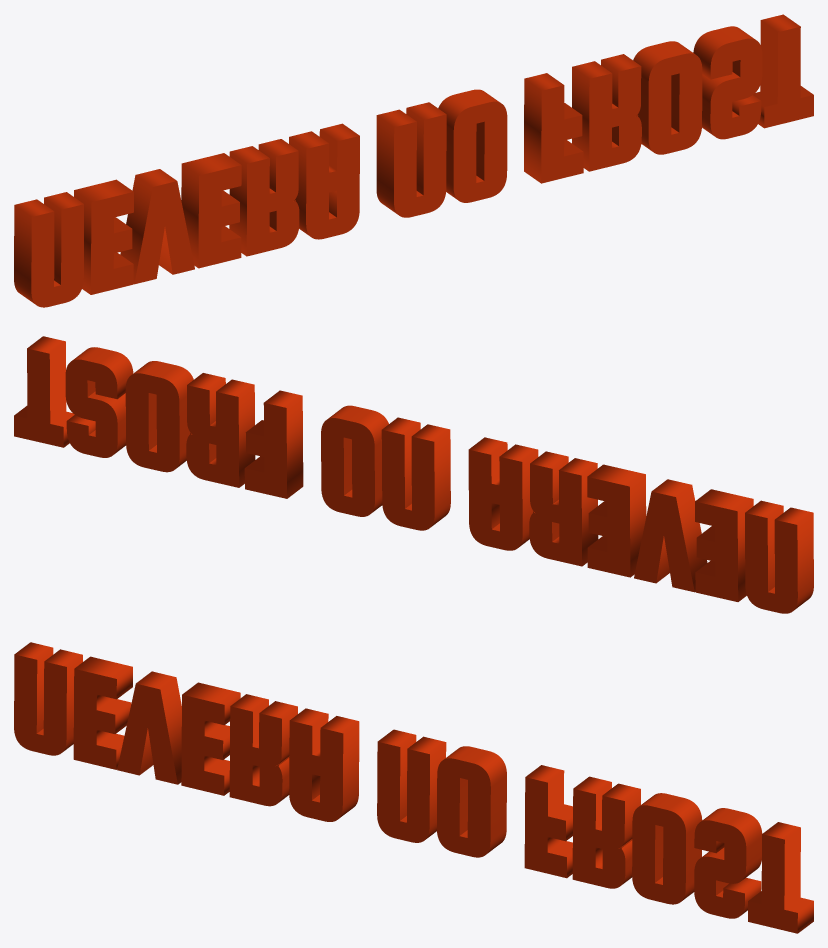
The model's file is nevera.obj.
The picture shows the model from 3 angles, top to bottom: view 1: azimuth 30°, elevation 25°; view 2: azimuth 150°, elevation 25°; view 3: azimuth 330°, elevation 25°; orthographic projection.
Parts seen in each view (by area): view 1: Texto; view 2: Texto; view 3: Texto.
Boxes of the visible parts, bbox=[...] form: Texto: bbox=[14, 14, 813, 307]; Texto: bbox=[14, 336, 813, 613]; Texto: bbox=[14, 642, 813, 933].
Bounding box in the file's own units: 6.48 × 0.7689 × 0.3476.
